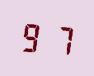nine: (19, 17, 45, 55)
seven: (46, 20, 72, 58)
